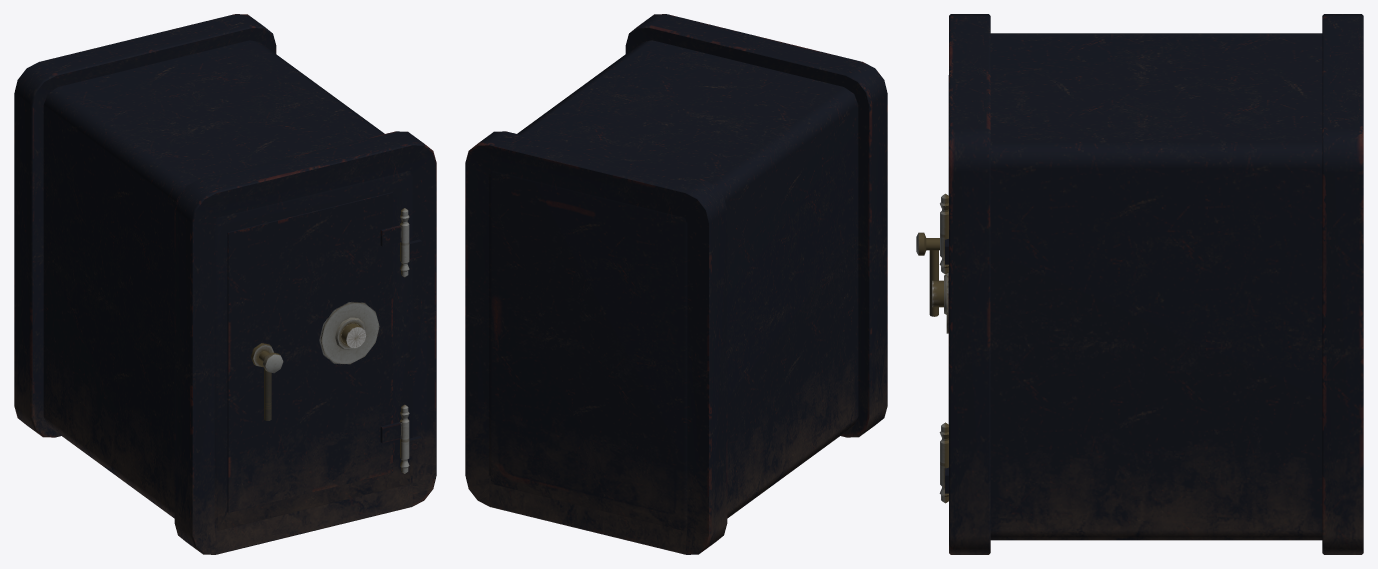
File: old_iron_safe.glb
3 renders of one model, left to right at view 1: azimuth 30°, elevation 25°; view 2: azimuth 150°, elevation 25°; view 3: azimuth 270°, elevation 25°, orthographic. The views are drawn at different scales.
Parts seen in each view (by area): view 1: LP_TRIS, Carcass, Door, Lock_Base1, Hinge_Base, Hinge, Stuff; view 2: LP_TRIS, Carcass; view 3: LP_TRIS, Carcass, Hinge_Base.
Part boxes in pixels (<box>): LP_TRIS: <box>43,40,412,530</box>; Carcass: <box>14,14,436,554</box>; Door: <box>227,192,392,512</box>; Lock_Base1: <box>320,302,379,364</box>; Hinge_Base: <box>400,208,421,473</box>; Hinge: <box>380,225,401,443</box>; Stuff: <box>251,343,283,373</box>; LP_TRIS: <box>489,40,858,530</box>; Carcass: <box>465,14,887,554</box>; LP_TRIS: <box>990,33,1322,540</box>; Carcass: <box>949,14,1363,554</box>; Hinge_Base: <box>939,193,948,503</box>.
Bounding box in the file's own units: 3.65 × 5.16 × 4.94.
1 material, 1 textured.
